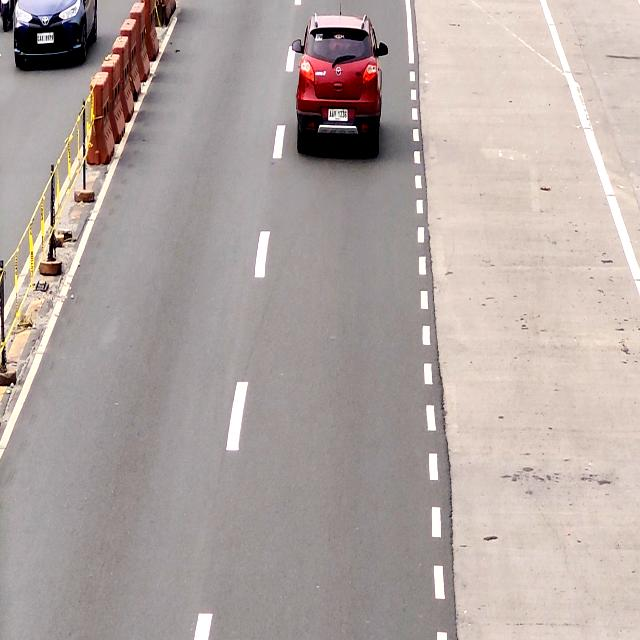Car: (295, 15, 384, 152)
License-Plate: (326, 106, 349, 121)
